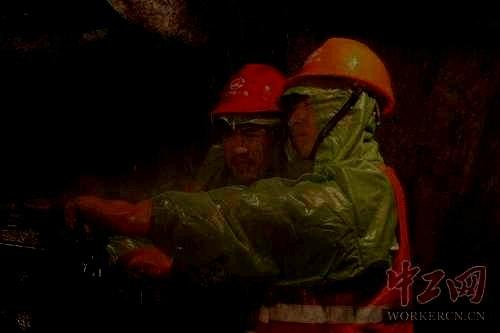helmet: (281, 37, 396, 160), (211, 62, 291, 182)
